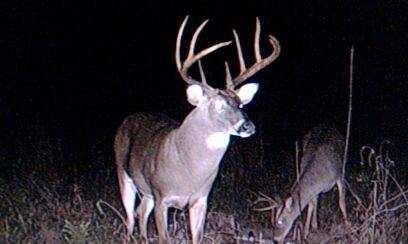deer: (95, 13, 268, 239), (275, 102, 351, 244)
